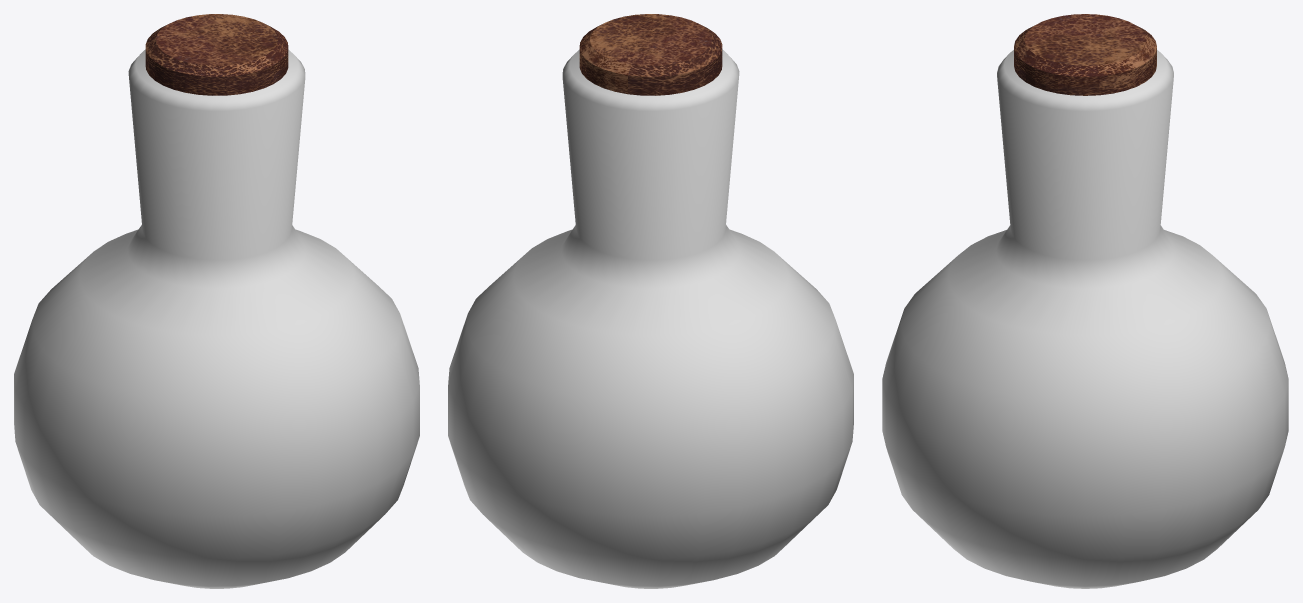
File: portion (1).fbx
3 views of the same model, side by side, from view 1: azimuth 30°, elevation 25°; view 2: azimuth 150°, elevation 25°; view 3: azimuth 270°, elevation 25° (orthographic).
Parts seen in each view (by area): view 1: Cylinder, Cylinder.001; view 2: Cylinder, Cylinder.001; view 3: Cylinder, Cylinder.001.
Boxes of the visible parts, <box> form: Cylinder: <box>14,49,419,588</box>; Cylinder.001: <box>145,14,288,95</box>; Cylinder: <box>448,49,853,588</box>; Cylinder.001: <box>579,14,722,95</box>; Cylinder: <box>882,50,1288,588</box>; Cylinder.001: <box>1014,14,1156,95</box>.
Size of the model in its own units: 166 by 233 by 166.
3 materials, 1 textured.
